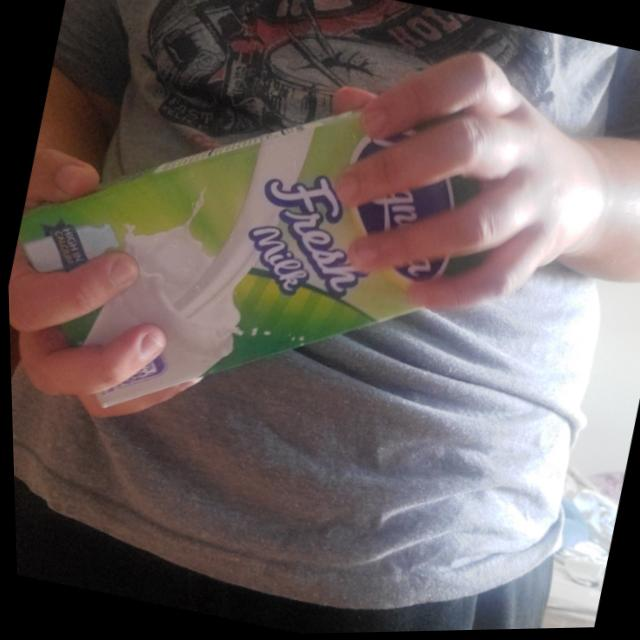milk: (0, 11, 528, 488)
